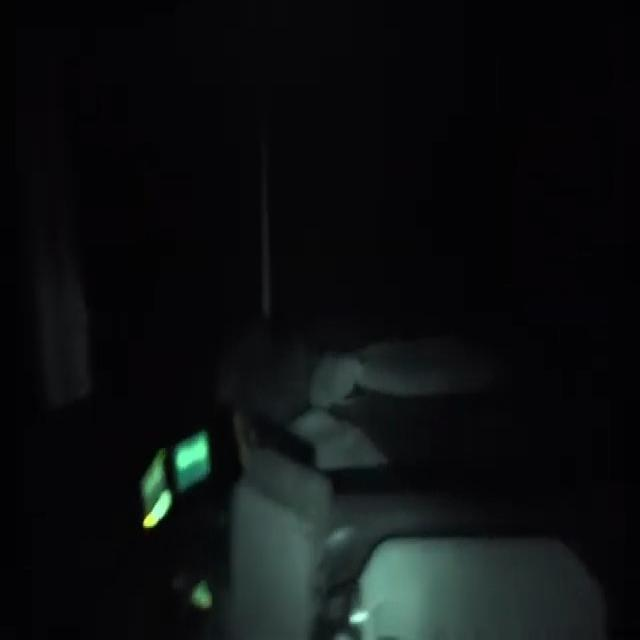device: (105, 357, 254, 628)
